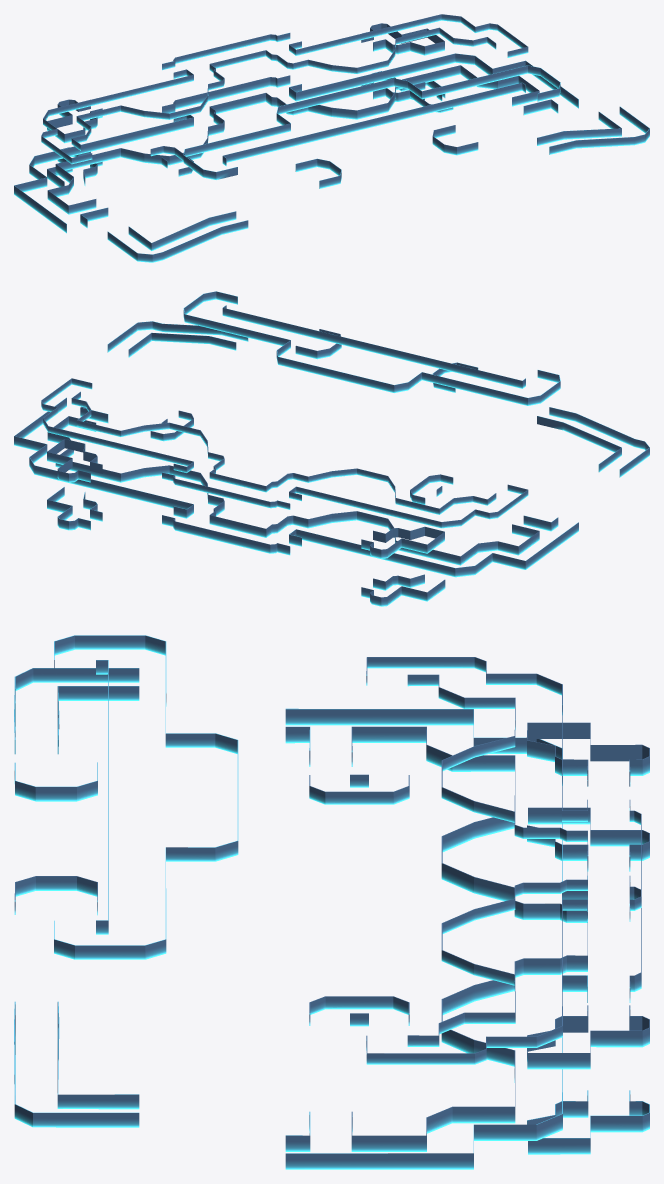
Rendered from wall_Mus.fbx.
The picture shows the model from 3 angles, top to bottom: view 1: azimuth 30°, elevation 25°; view 2: azimuth 150°, elevation 25°; view 3: azimuth 270°, elevation 25°; orthographic projection. The views are drawn at different scales.
Visible parts, largest first — view 1: m_Ins_Bld_M_Wall_002; view 2: m_Ins_Bld_M_Wall_002; view 3: m_Ins_Bld_M_Wall_002.
Boxes of the visible parts, <box> form: m_Ins_Bld_M_Wall_002: <box>14,14,649,262</box>; m_Ins_Bld_M_Wall_002: <box>14,291,649,606</box>; m_Ins_Bld_M_Wall_002: <box>14,635,649,1169</box>.
Size of the model in its own units: 64.67 by 13.47 by 39.05.
1 material, 1 textured.
